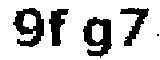7: (117, 2, 149, 52)
9: (9, 3, 45, 52)
f: (46, 5, 71, 50)
g: (81, 15, 113, 60)
